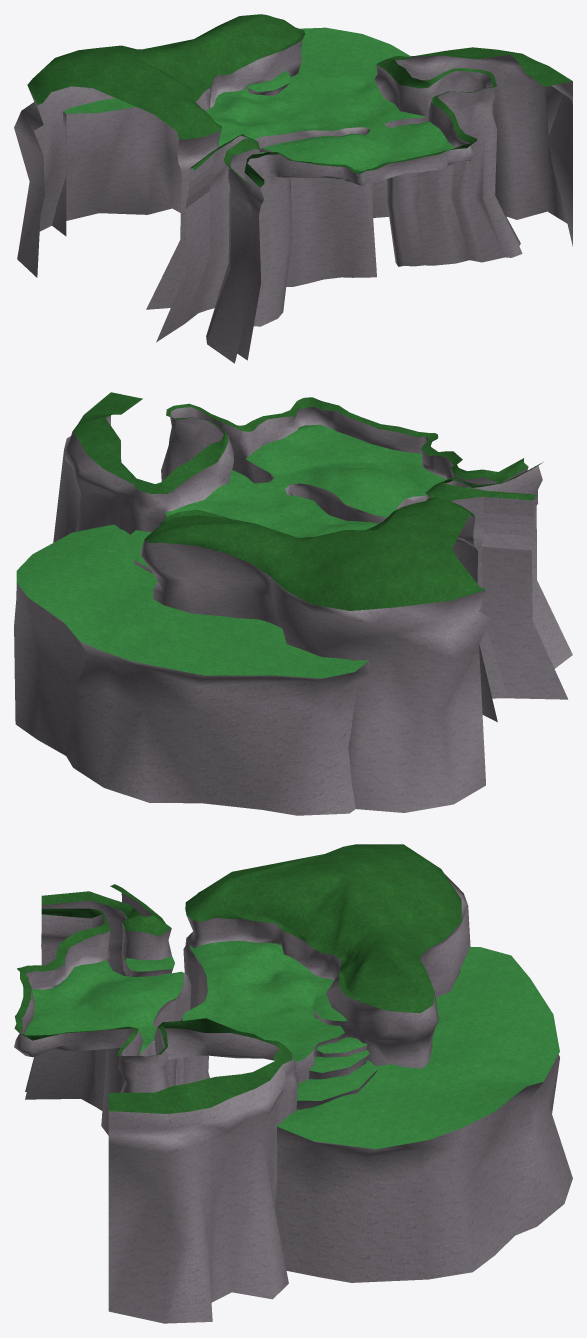
File: level_opaque.fbx
3 views of the same model, one above another, from view 1: azimuth 30°, elevation 25°; view 2: azimuth 150°, elevation 25°; view 3: azimuth 270°, elevation 25° (orthographic). The views are drawn at different scales.
Visible parts, largest first — view 1: opaque_GEO_GRP; view 2: opaque_GEO_GRP; view 3: opaque_GEO_GRP.
Boxes of the visible parts, bbox=[...] form: opaque_GEO_GRP: bbox=[14, 14, 572, 363]; opaque_GEO_GRP: bbox=[14, 392, 572, 815]; opaque_GEO_GRP: bbox=[14, 844, 572, 1323].
Size of the model in its own units: 132 by 55.29 by 116.
Materials: 3 (3 with a texture image).
